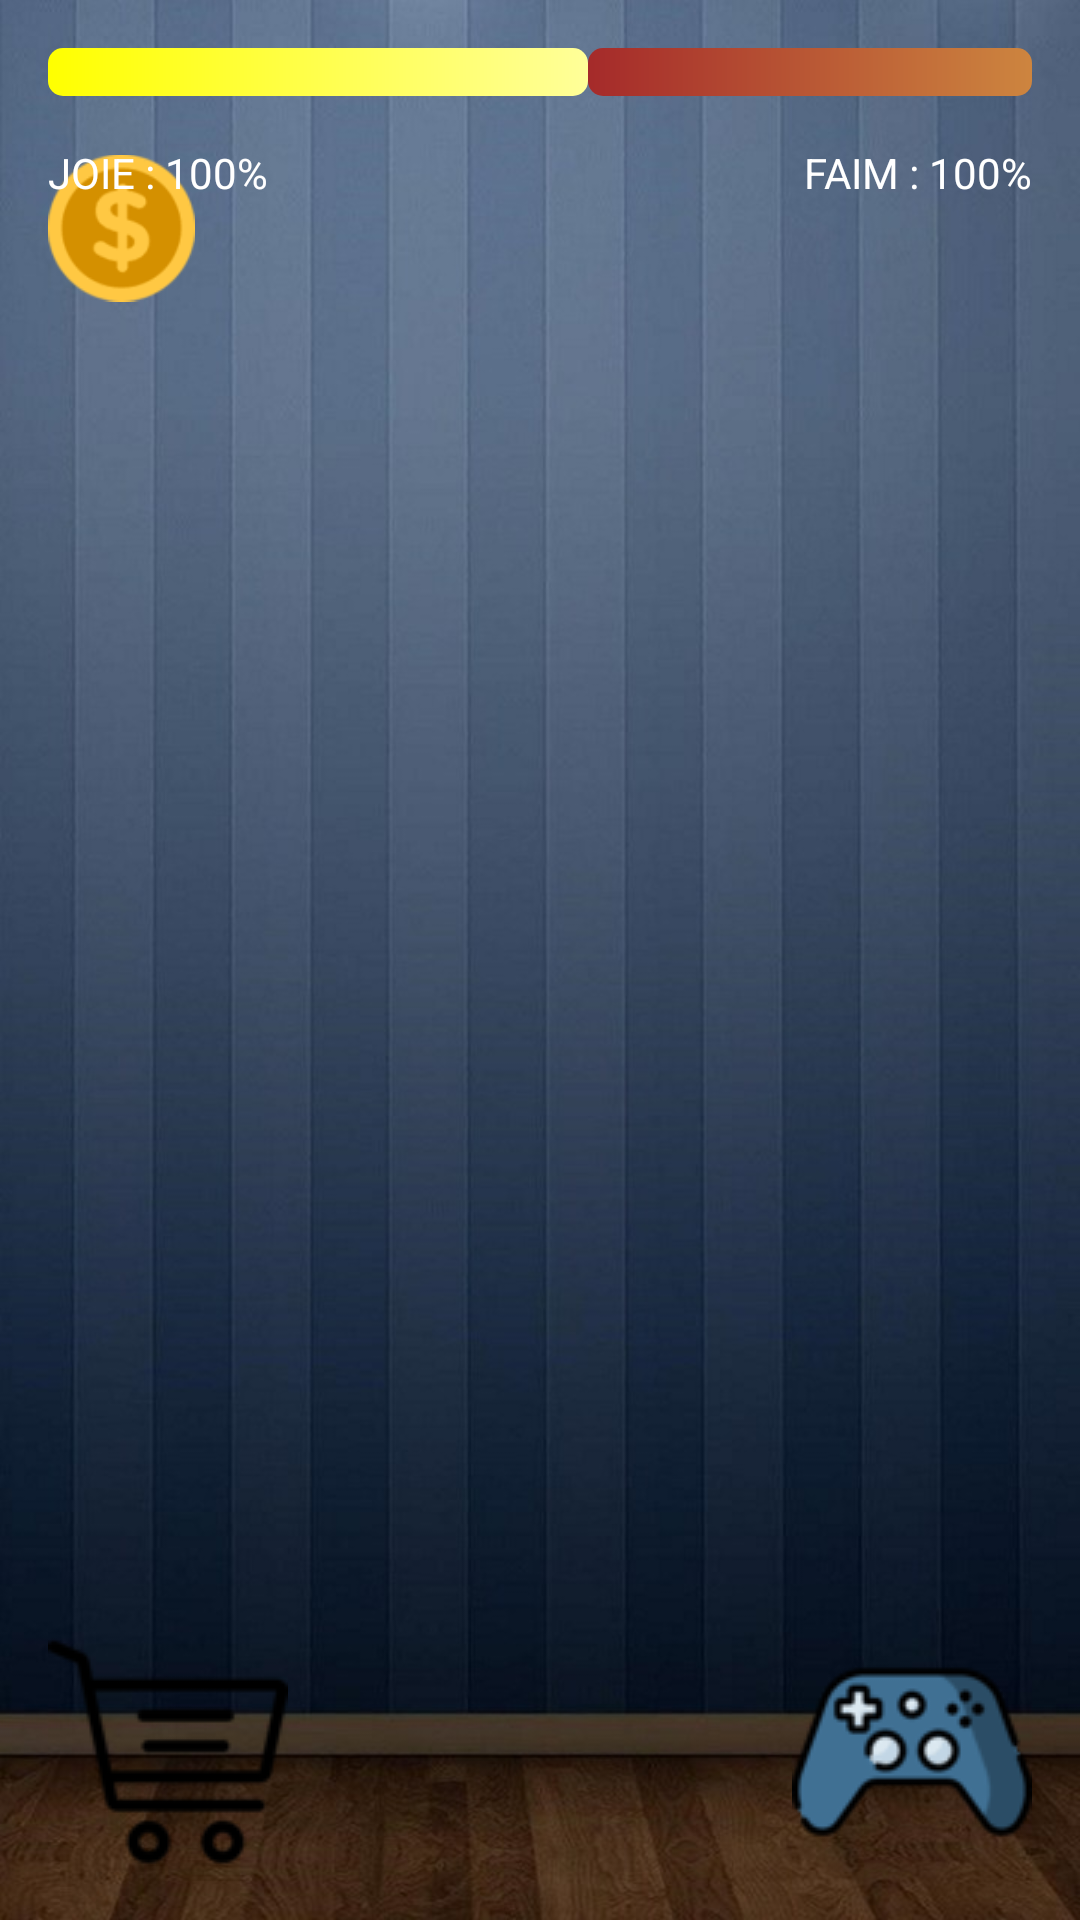

Where to tap for icons on this 1080w x 1920h app screen, as (x,y):
game: (912,1752)
shop: (168,1752)
